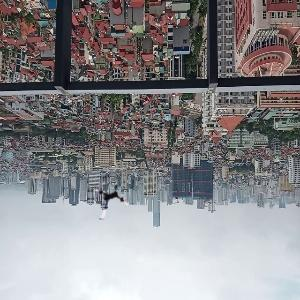drone: (90, 182, 131, 223)
